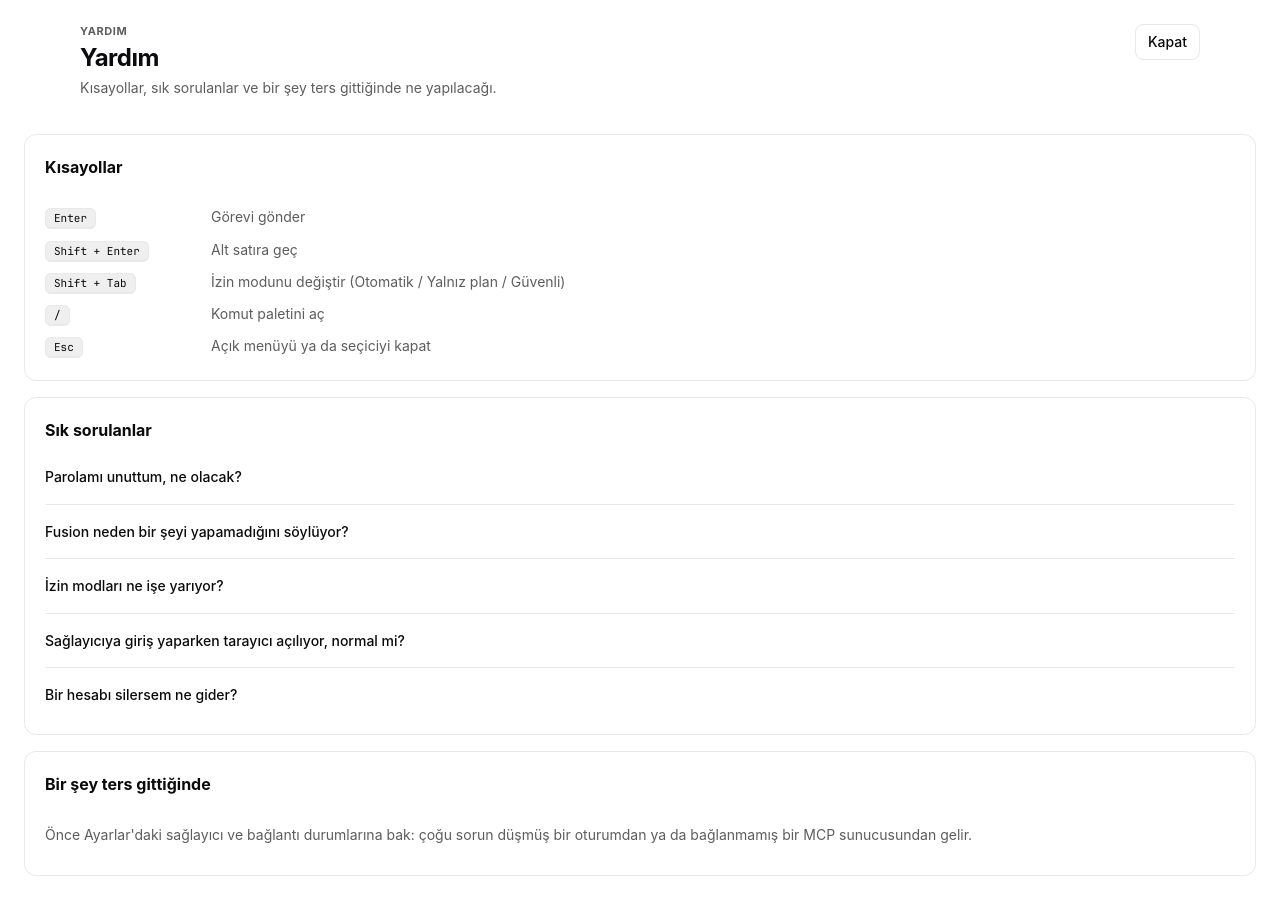
Test: HelpScreen › sık sorulanlar kapalı başlar, tıklayınca cevabı açar
The image size is (1280, 900).
Click the heading "Parolamı unuttum, ne olacak?": coordinates (143, 477) [45,468,242,485]
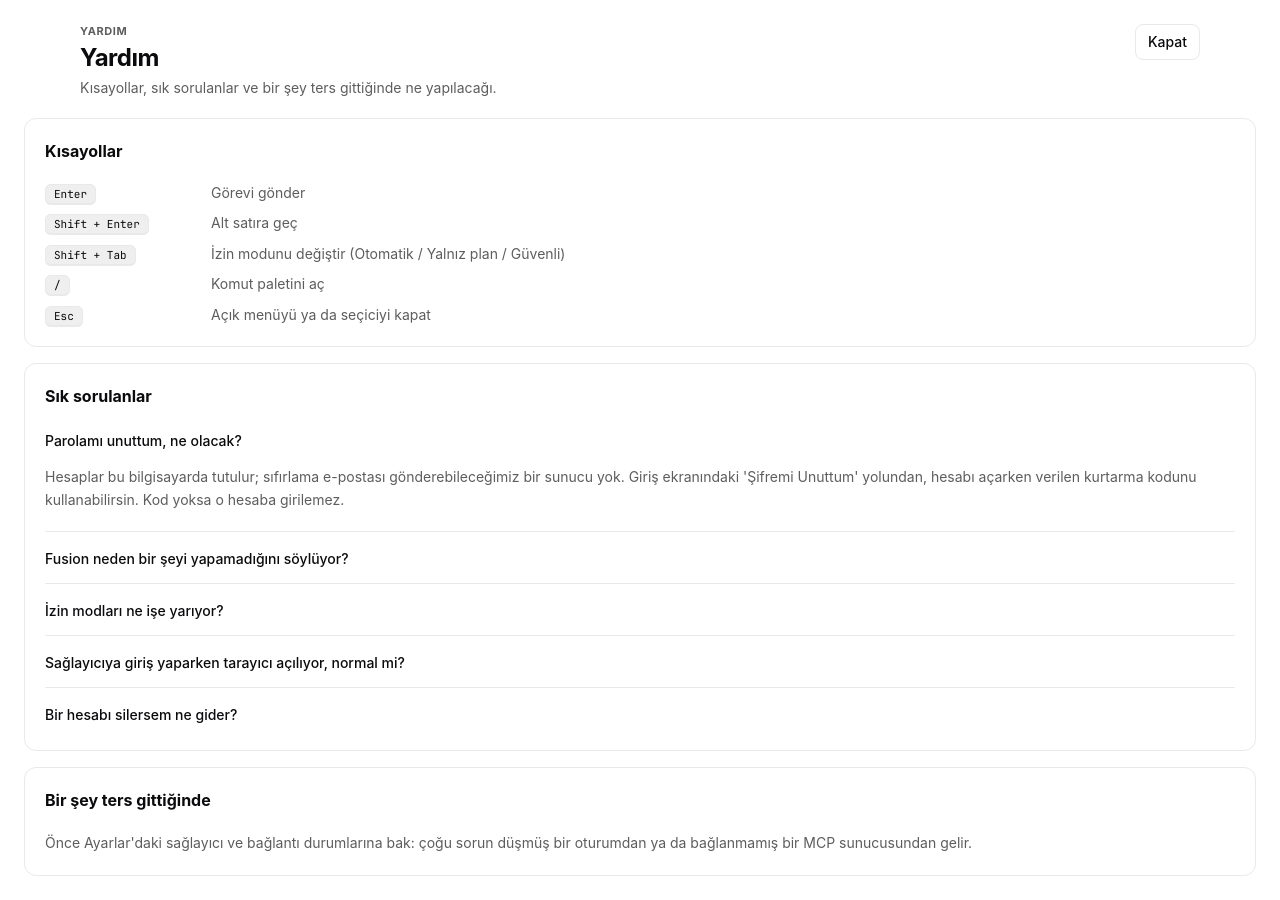
Check: the text "kurtarma kodunu" is shown, box [45,468,1197,508]
